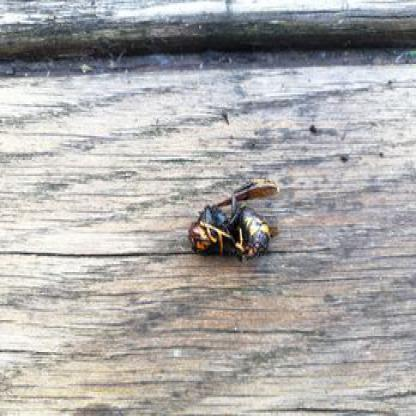Asian Hornet: (188, 184, 282, 259)
